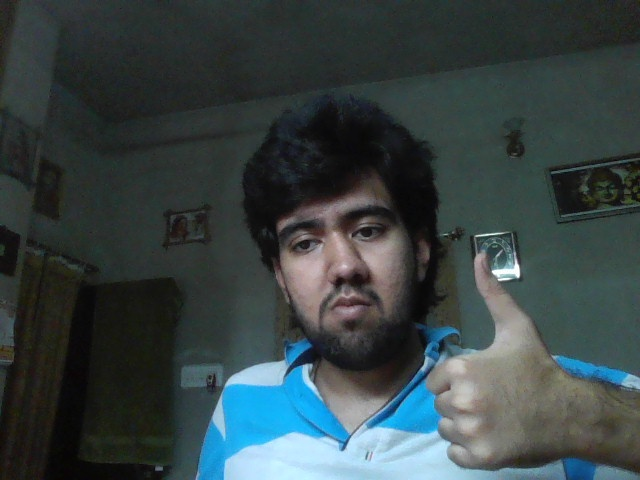Ok: (426, 254, 573, 465)
